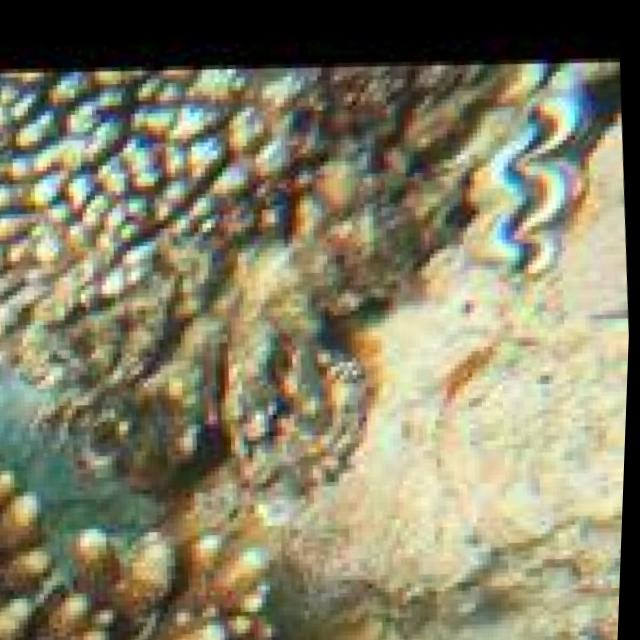Bleached Coral: (0, 52, 305, 330)
Healthy Coral: (0, 521, 263, 640)
